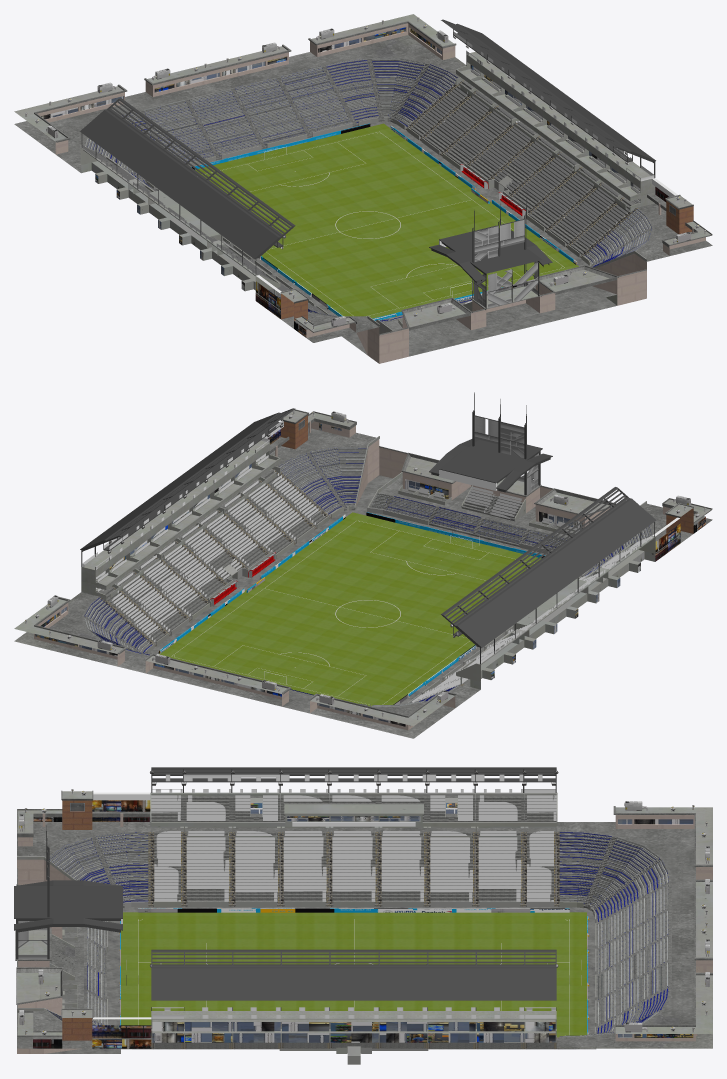
The model's file is stadium_full_original_webp.glb.
3 views of the same model, one above another, from view 1: azimuth 30°, elevation 25°; view 2: azimuth 150°, elevation 25°; view 3: azimuth 270°, elevation 25° (orthographic). The views are drawn at different scales.
Visible parts, largest first — view 1: _gltfNode_274, _gltfNode_76, _gltfNode_126, _gltfNode_204, _gltfNode_122, _gltfNode_120, _gltfNode_248, _gltfNode_138, _gltfNode_853, _gltfNode_142, _gltfNode_64, _gltfNode_118 (+33 smaller); view 2: _gltfNode_274, _gltfNode_76, _gltfNode_126, _gltfNode_204, _gltfNode_122, _gltfNode_124, _gltfNode_120, _gltfNode_248, _gltfNode_142, _gltfNode_853, _gltfNode_150, _gltfNode_118 (+34 smaller); view 3: _gltfNode_76, _gltfNode_274, _gltfNode_157, _gltfNode_126, _gltfNode_864, _gltfNode_120, _gltfNode_122, _gltfNode_128, _gltfNode_248, _gltfNode_142, _gltfNode_150, _gltfNode_118 (+56 smaller).
Part boxes in pixels (bbox=[...]): _gltfNode_274: bbox=[195, 123, 578, 318]; _gltfNode_76: bbox=[82, 58, 654, 318]; _gltfNode_126: bbox=[14, 35, 712, 342]; _gltfNode_204: bbox=[80, 109, 280, 258]; _gltfNode_122: bbox=[456, 51, 655, 212]; _gltfNode_120: bbox=[80, 146, 280, 294]; _gltfNode_248: bbox=[154, 121, 616, 356]; _gltfNode_138: bbox=[37, 23, 455, 154]; _gltfNode_853: bbox=[379, 270, 646, 363]; _gltfNode_142: bbox=[14, 14, 453, 141]; _gltfNode_64: bbox=[474, 219, 538, 307]; _gltfNode_118: bbox=[145, 117, 590, 320]; _gltfNode_274: bbox=[159, 512, 541, 706]; _gltfNode_76: bbox=[81, 446, 653, 707]; _gltfNode_126: bbox=[14, 427, 712, 738]; _gltfNode_204: bbox=[455, 498, 656, 647]; _gltfNode_122: bbox=[81, 440, 280, 601]; _gltfNode_124: bbox=[370, 476, 578, 550]; _gltfNode_120: bbox=[456, 535, 655, 689]; _gltfNode_248: bbox=[148, 475, 581, 704]; _gltfNode_142: bbox=[14, 599, 454, 726]; _gltfNode_853: bbox=[379, 447, 609, 527]; _gltfNode_150: bbox=[439, 439, 542, 483]; _gltfNode_118: bbox=[145, 505, 590, 703]; _gltfNode_76: bbox=[44, 832, 671, 1049]; _gltfNode_274: bbox=[121, 912, 586, 1037]; _gltfNode_157: bbox=[151, 967, 556, 1000]; _gltfNode_126: bbox=[17, 822, 712, 1048]; _gltfNode_864: bbox=[152, 1022, 555, 1042]; _gltfNode_120: bbox=[150, 792, 557, 839]; _gltfNode_122: bbox=[151, 1011, 556, 1040]; _gltfNode_128: bbox=[151, 796, 556, 821]; _gltfNode_248: bbox=[46, 906, 595, 1053]; _gltfNode_142: bbox=[615, 807, 712, 1033]; _gltfNode_150: bbox=[14, 886, 122, 920]; _gltfNode_118: bbox=[107, 901, 596, 1064].
Bounding box in the file's own units: 132 × 37.1 × 170.
Materials: 26 (19 with a texture image).
